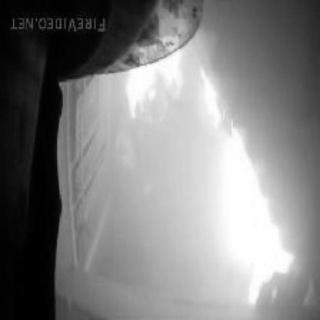Fire: (123, 42, 295, 295)
